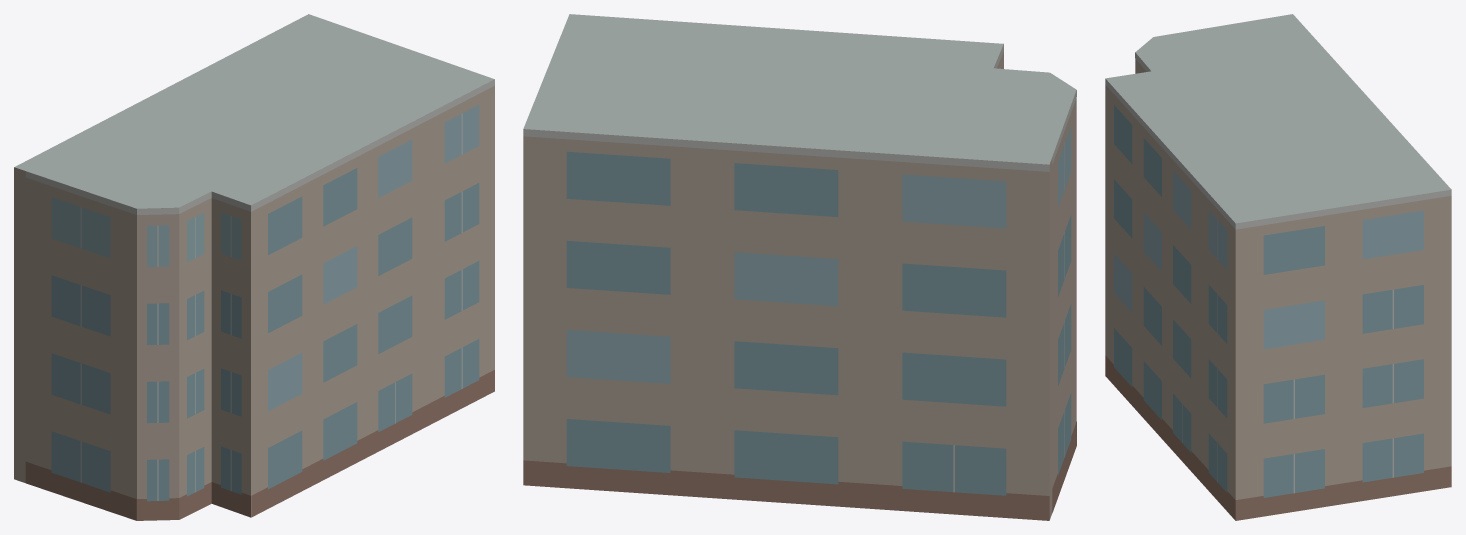
File: survey-upis-32842341.glb
3 views of the same model, side by side, from view 1: azimuth 30°, elevation 25°; view 2: azimuth 150°, elevation 25°; view 3: azimuth 270°, elevation 25° (orthographic). The views are drawn at different scales.
Parts seen in each view (by area): view 1: survey-upis-32842341.tmp; view 2: survey-upis-32842341.tmp; view 3: survey-upis-32842341.tmp.
Part boxes in pixels (<box>): survey-upis-32842341.tmp: <box>14,14,494,520</box>; survey-upis-32842341.tmp: <box>523,14,1076,520</box>; survey-upis-32842341.tmp: <box>1105,14,1451,520</box>.
Bounding box in the file's own units: 17.99 × 11.9 × 12.57.
